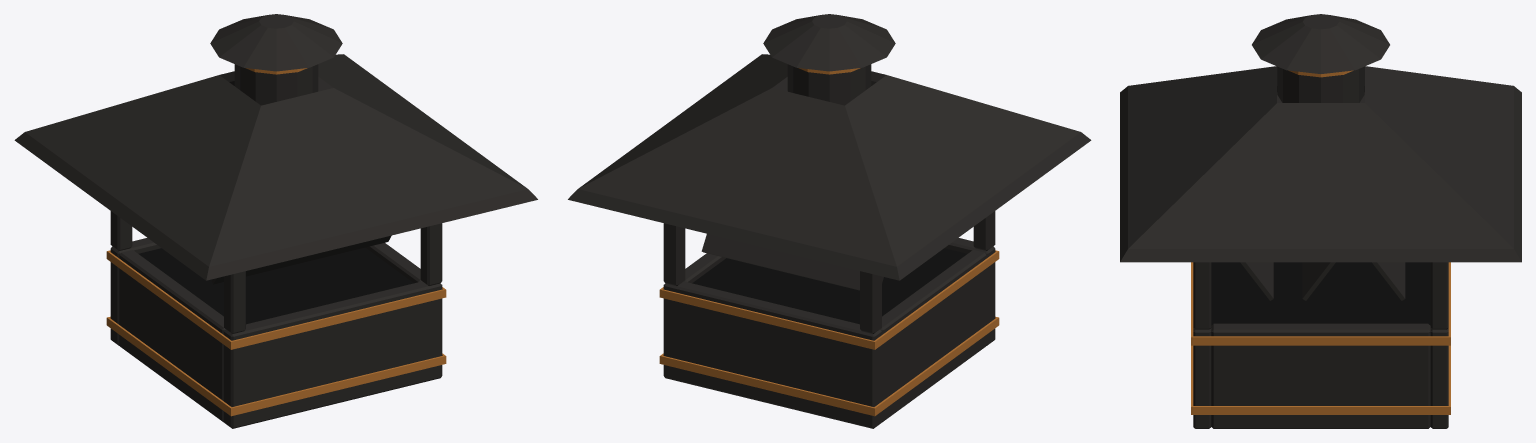
The model's file is Prop_Forge_SmokeFilter.glb.
3 views of the same model, side by side, from view 1: azimuth 30°, elevation 25°; view 2: azimuth 150°, elevation 25°; view 3: azimuth 270°, elevation 25° (orthographic). The views are drawn at different scales.
Visible parts, largest first — view 1: Prop_Forge_SmokeFilter; view 2: Prop_Forge_SmokeFilter; view 3: Prop_Forge_SmokeFilter.
Boxes of the visible parts, box(x1,y1,x2,y2) form: Prop_Forge_SmokeFilter: box(14, 14, 537, 428); Prop_Forge_SmokeFilter: box(568, 14, 1091, 428); Prop_Forge_SmokeFilter: box(1120, 14, 1521, 428).
Size of what is drawn, in the model's own units: 1.1 by 1.07 by 1.1.
